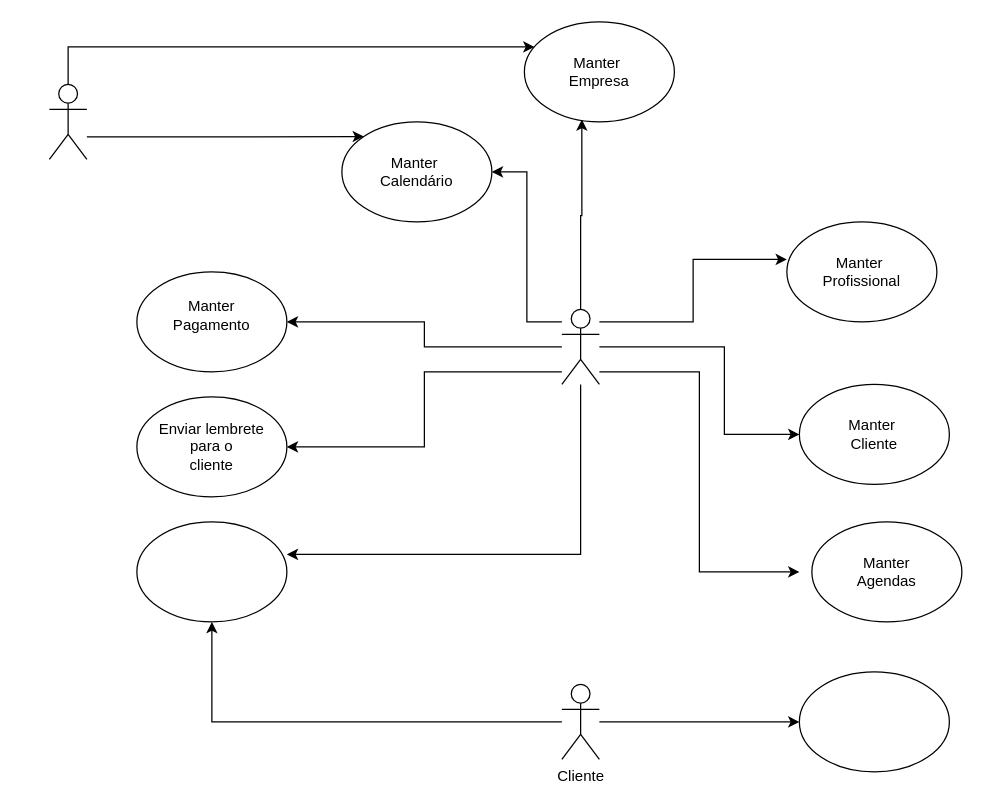
Some shapes in this 984 by 808 pixel diagram are drawn without their labels. The centre of each missing label's shape, as x and y in pixels:
Administrador: the point at 67,121
Avaliar Empresa: the point at 873,721
Dono do negócio: the point at 580,346
Manter Agendamento: the point at 211,571
